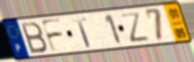1: (105, 14, 124, 45)
7: (144, 7, 166, 43)
B: (19, 21, 49, 55)
F: (39, 17, 66, 54)
T: (70, 16, 92, 48)
Z: (119, 11, 151, 43)
